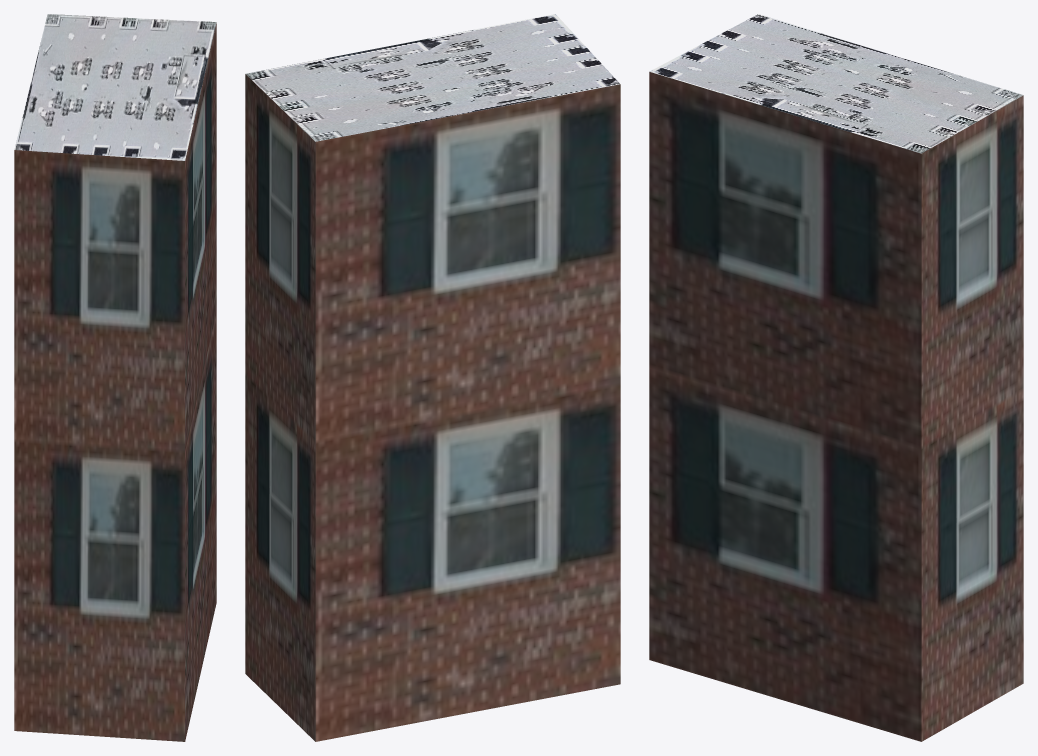
The model's file is ResTex__4952.fbx.
3 renders of one model, left to right at view 1: azimuth 30°, elevation 25°; view 2: azimuth 150°, elevation 25°; view 3: azimuth 270°, elevation 25°, orthographic. The views are drawn at different scales.
Parts seen in each view (by area): view 1: CityEngineMaterial_14_m, CityEngineMaterial_4_m; view 2: CityEngineMaterial_14_m, CityEngineMaterial_4_m; view 3: CityEngineMaterial_14_m, CityEngineMaterial_4_m.
Part boxes in pixels (x1,y1,x2,y2): CityEngineMaterial_14_m: (14,23,216,741); CityEngineMaterial_4_m: (14,14,216,160); CityEngineMaterial_14_m: (245,74,620,741); CityEngineMaterial_4_m: (245,14,620,141); CityEngineMaterial_14_m: (649,72,1023,741); CityEngineMaterial_4_m: (649,14,1023,153).
Bounding box in the file's own units: 3.06 × 6 × 3.46.
Materials: 2 (2 with a texture image).
